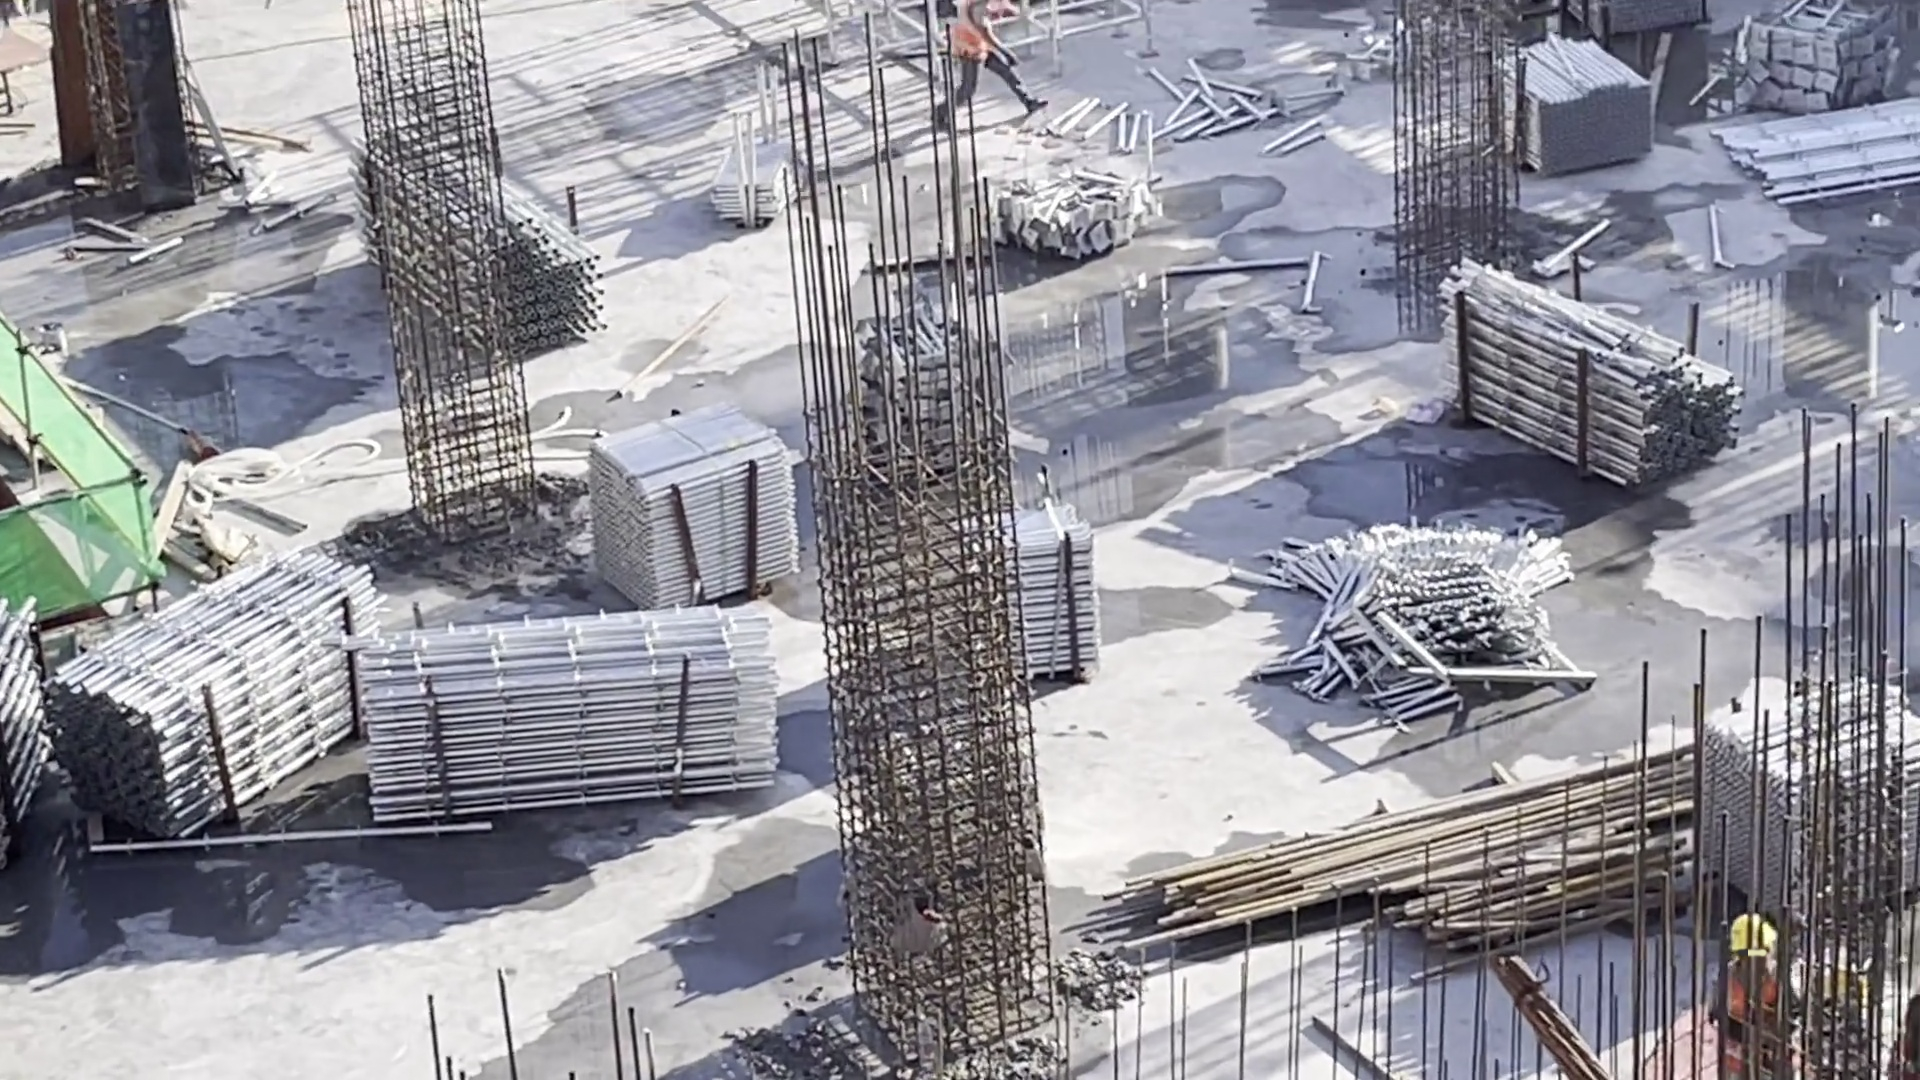helmet: (1719, 913, 1782, 965)
person: (918, 1, 1054, 131), (1706, 906, 1794, 1080)
scaffold: (1441, 285, 1772, 539), (107, 560, 345, 823), (328, 679, 783, 796), (1319, 533, 1590, 726), (1684, 724, 1920, 900), (392, 155, 580, 332), (613, 455, 805, 591), (1717, 105, 1920, 202), (1489, 43, 1645, 159), (995, 533, 1112, 675), (5, 611, 76, 837), (709, 129, 799, 216), (1578, 1, 1701, 39)
vest: (947, 4, 1001, 64)
